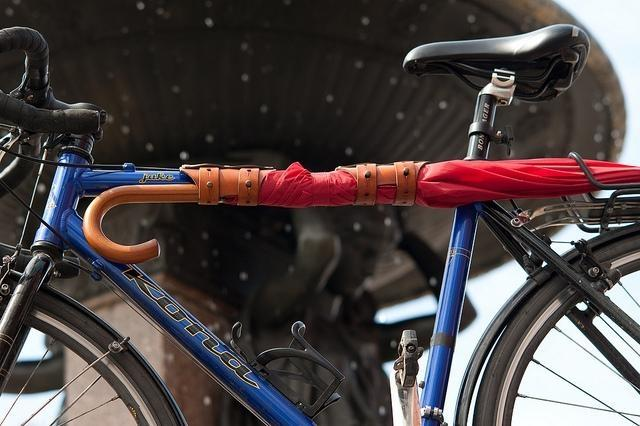bicycle: (1, 22, 639, 426)
